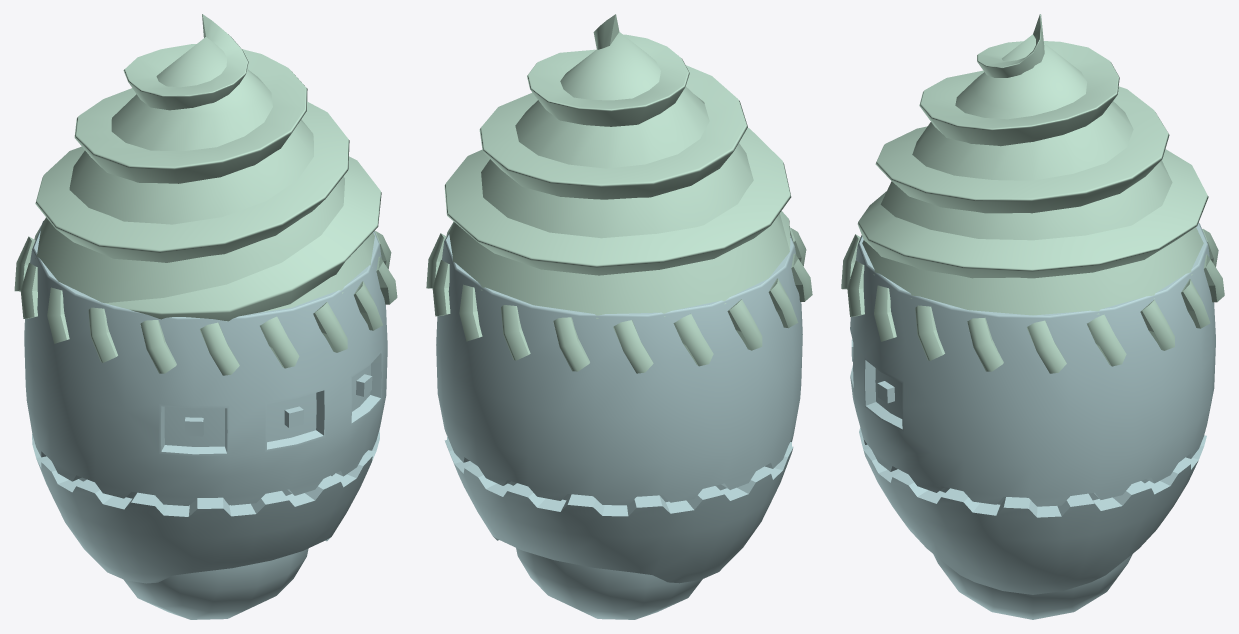
Rendered from Funguy_bottom.fbx.
3 renders of one model, left to right at view 1: azimuth 30°, elevation 25°; view 2: azimuth 150°, elevation 25°; view 3: azimuth 270°, elevation 25°, orthographic.
Visible parts, largest first — view 1: drill_bottom, head, jaw, wheel, eyes2; view 2: drill_bottom, head, jaw, wheel; view 3: drill_bottom, head, jaw, wheel.
Boxes of the visible parts, x1,y1,x2,y2 form: drill_bottom: [14, 14, 397, 375]; head: [24, 220, 387, 505]; jaw: [32, 430, 379, 583]; wheel: [124, 548, 308, 619]; eyes2: [185, 374, 372, 436]; drill_bottom: [426, 14, 812, 373]; head: [436, 231, 802, 505]; jaw: [444, 436, 793, 583]; wheel: [516, 548, 702, 619]; drill_bottom: [841, 14, 1224, 373]; head: [850, 223, 1215, 506]; jaw: [859, 427, 1206, 594]; wheel: [933, 554, 1132, 619].
Bounding box in the file's own units: 120 × 206 × 120.
